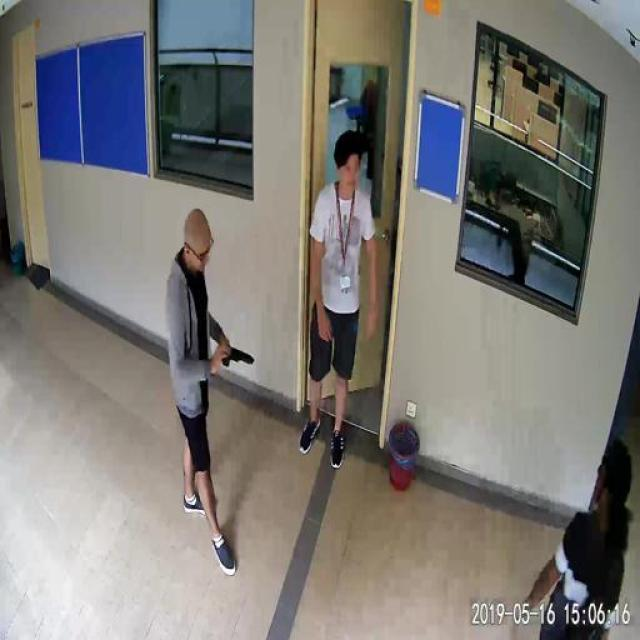Gun: (214, 343, 255, 391)
